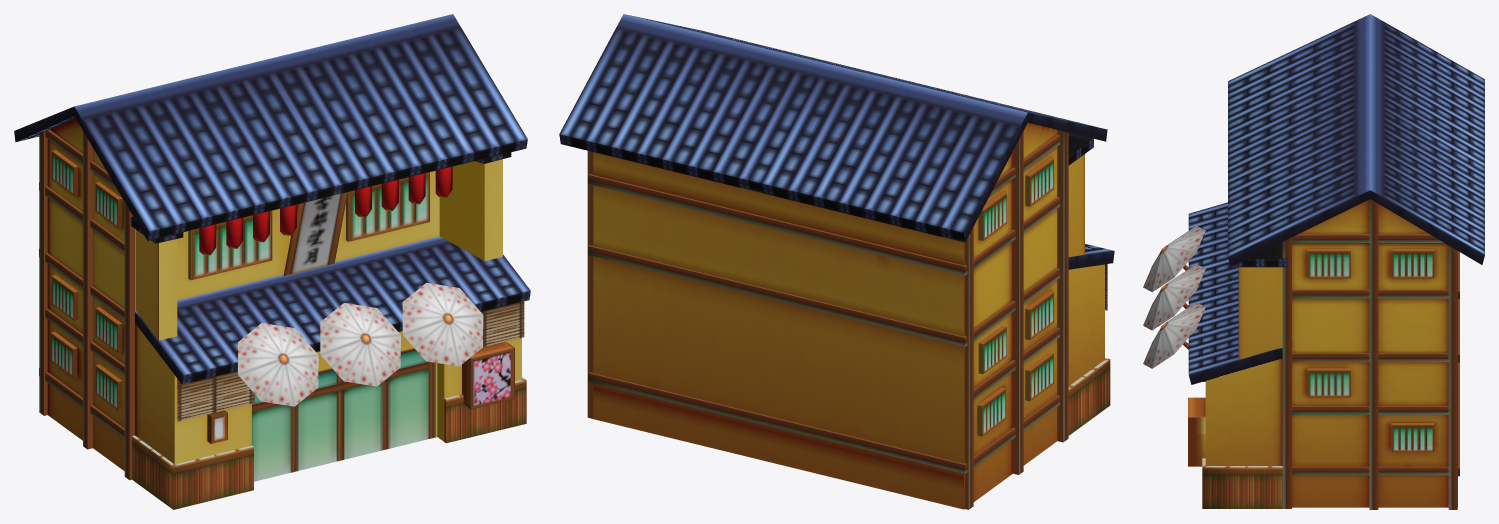
File: house_03.FBX
The picture shows the model from 3 angles, left to right: view 1: azimuth 30°, elevation 25°; view 2: azimuth 150°, elevation 25°; view 3: azimuth 270°, elevation 25°; orthographic projection. The views are drawn at different scales.
Visible parts, largest first — view 1: house_03; view 2: house_03; view 3: house_03.
Part boxes in pixels (<box>): house_03: <box>14,14,530,509</box>; house_03: <box>559,14,1114,509</box>; house_03: <box>1143,14,1484,509</box>.
Size of the model in its own units: 121160 by 104421 by 99400.
